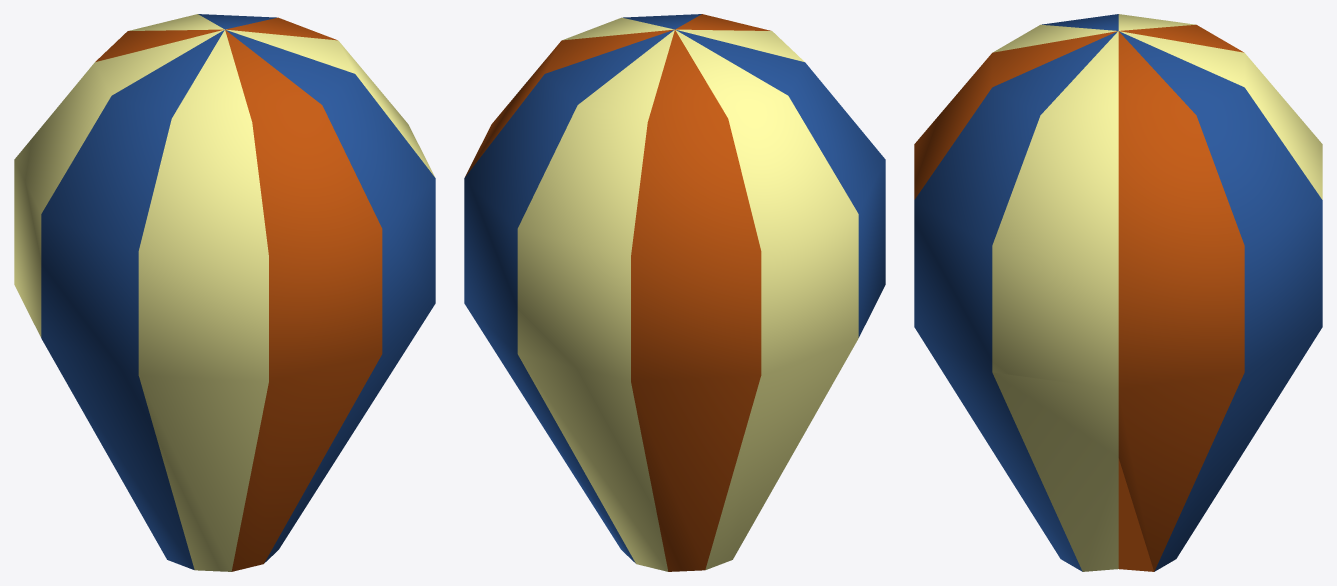
The model's file is HotAirBaloon.fbx.
3 renders of one model, left to right at view 1: azimuth 30°, elevation 25°; view 2: azimuth 150°, elevation 25°; view 3: azimuth 270°, elevation 25°, orthographic.
Parts seen in each view (by area): view 1: HotAirBaloon; view 2: HotAirBaloon; view 3: HotAirBaloon.
Boxes of the visible parts, <box> form: HotAirBaloon: <box>14,14,435,571</box>; HotAirBaloon: <box>464,14,885,571</box>; HotAirBaloon: <box>914,14,1322,571</box>.
Bounding box in the file's own units: 181 × 252 × 172.
